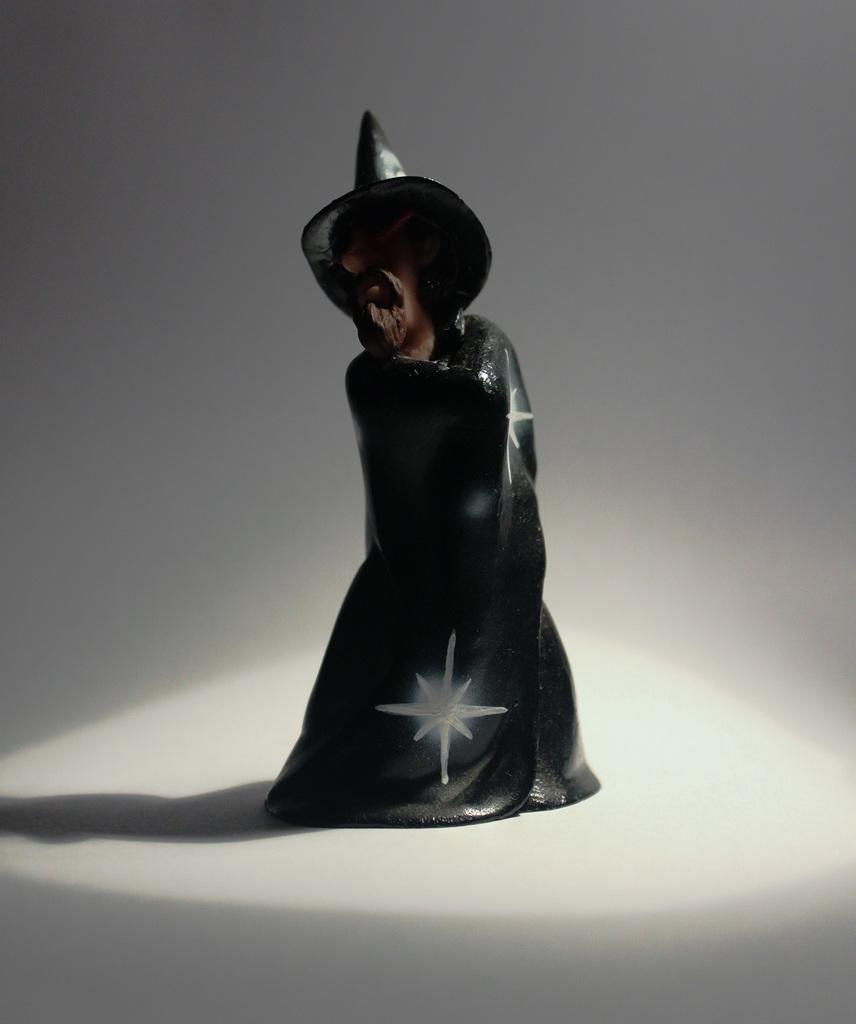Hat: (294, 104, 496, 326)
